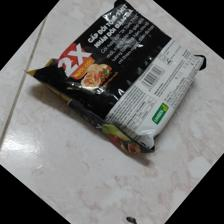3mien: (25, 1, 208, 156)
